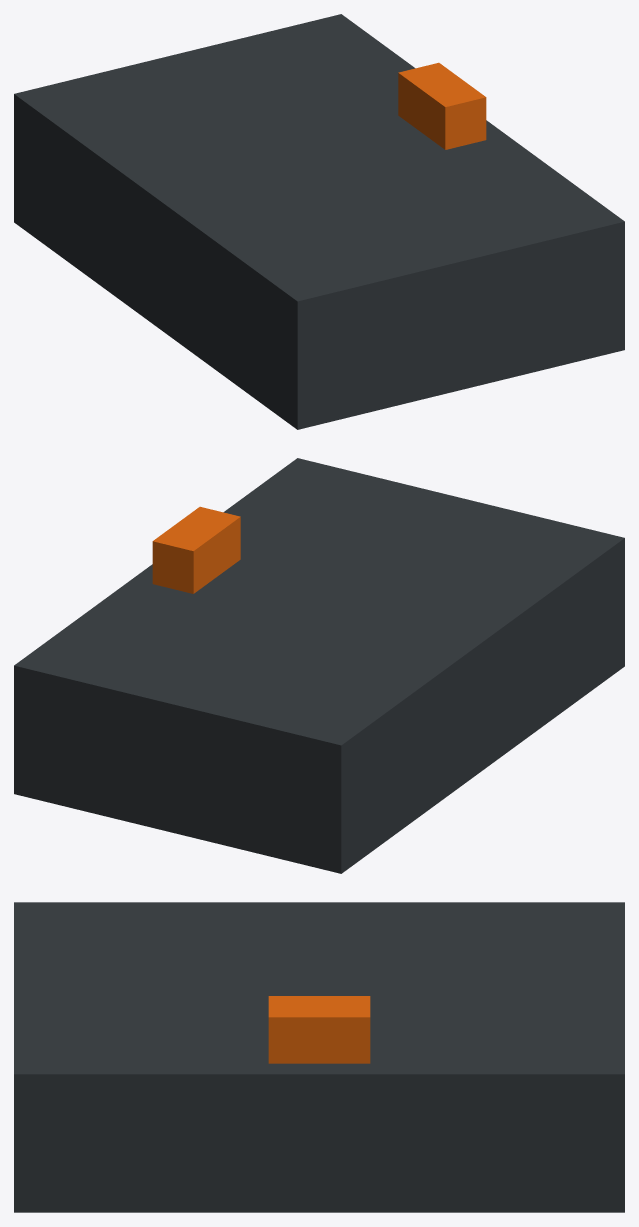
The model's file is traction_pack_light.glb.
3 renders of one model, top to bottom at view 1: azimuth 30°, elevation 25°; view 2: azimuth 150°, elevation 25°; view 3: azimuth 270°, elevation 25°, orthographic. The views are drawn at different scales.
Parts seen in each view (by area): view 1: body:compound; view 2: body:compound; view 3: body:compound.
Boxes of the visible parts, x1=… form: body:compound: x1=14, y1=14, x2=624, y2=429; body:compound: x1=14, y1=458, x2=624, y2=873; body:compound: x1=14, y1=902, x2=624, y2=1212.
Size of the model in its own units: 0.5 by 0.25 by 0.75.
